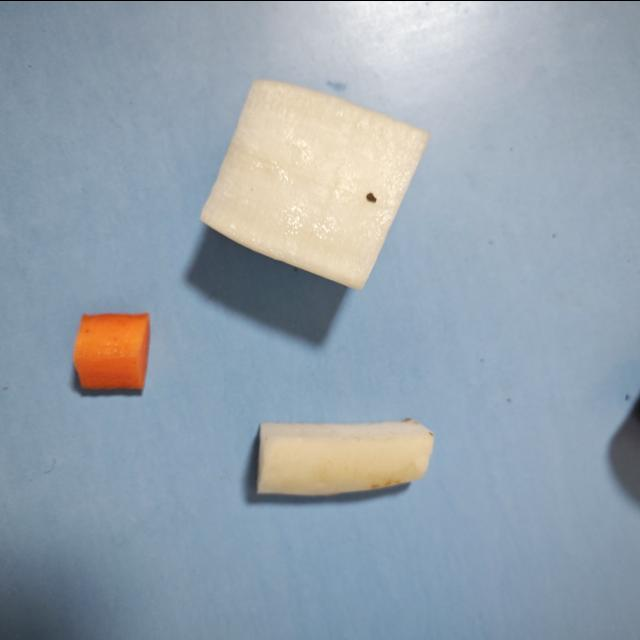-Kitchen waste - carrot-: (66, 304, 156, 396)
-Kitchen waste - white radish-: (198, 74, 436, 288), (245, 410, 436, 496)
